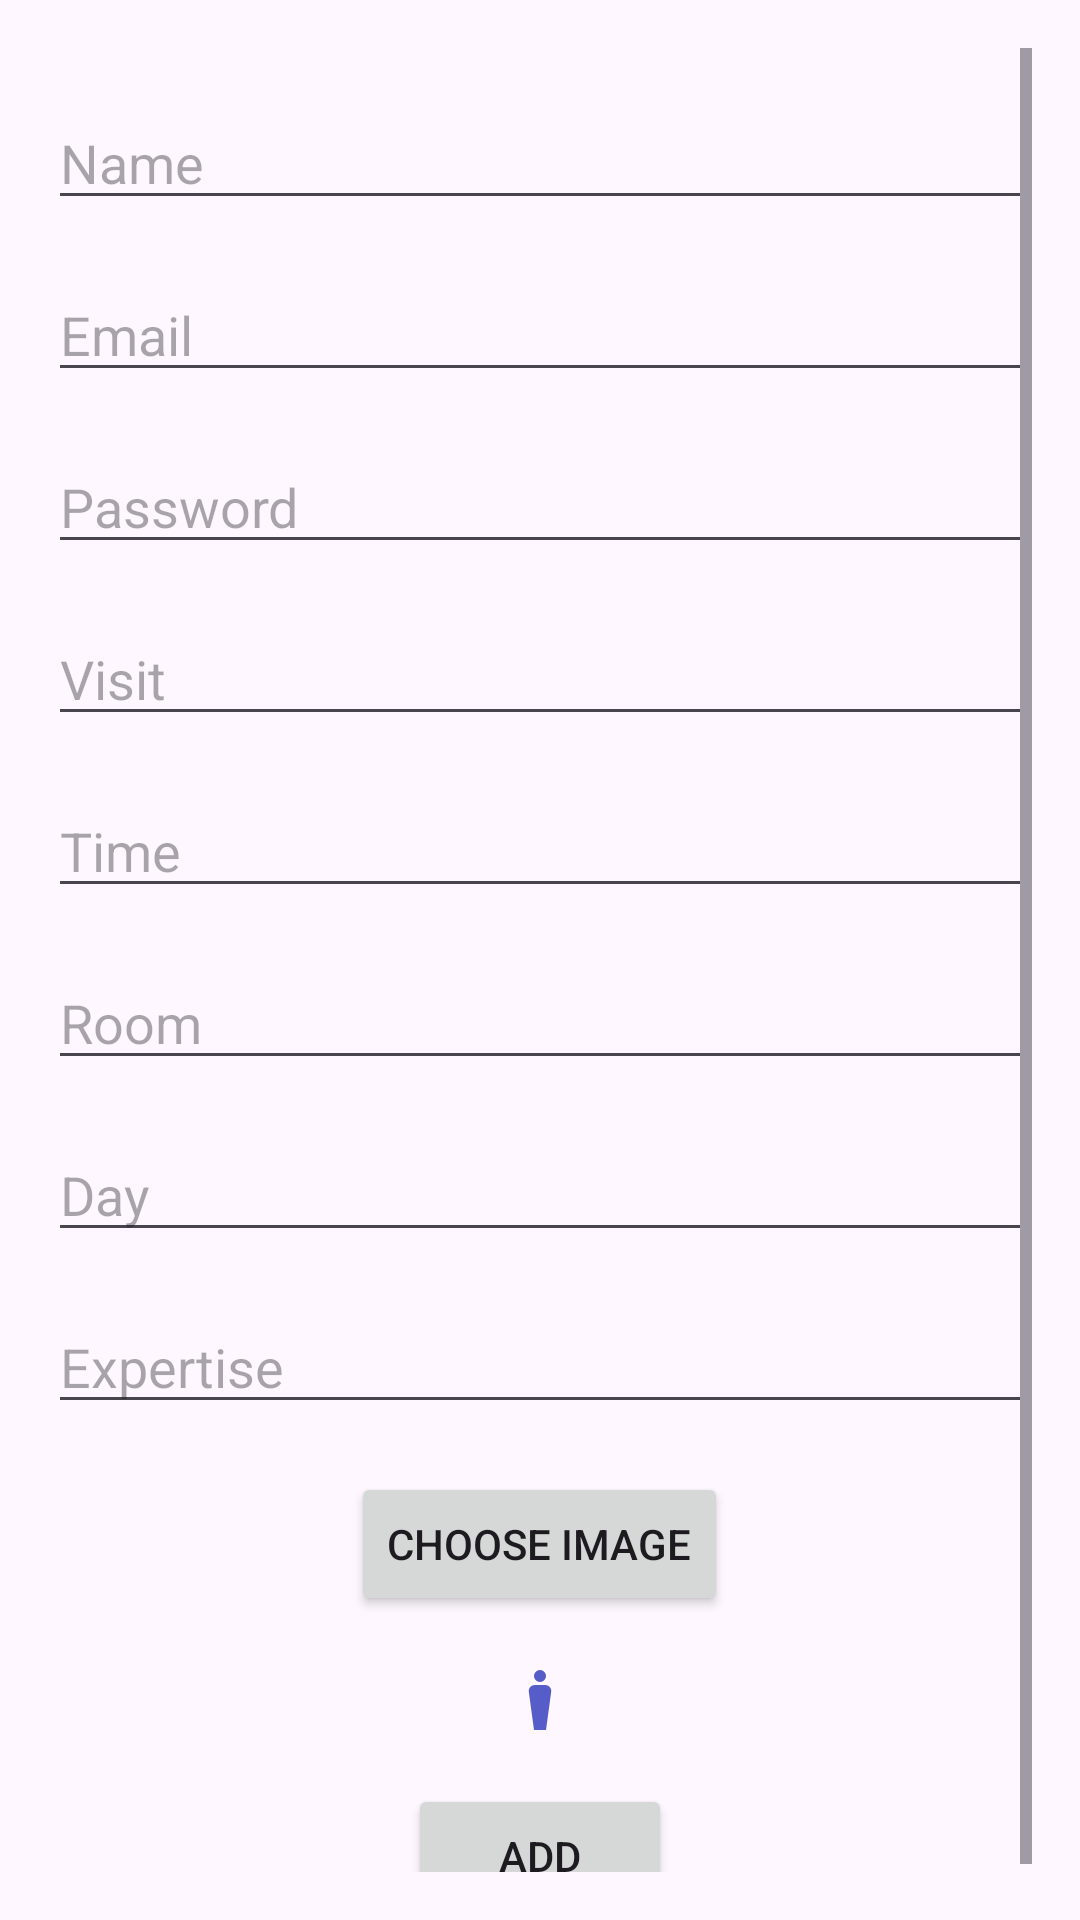

Point at icon controls on the screen. Image size 1080px x 1920px, points as [x,y].
man: [540,1700]
